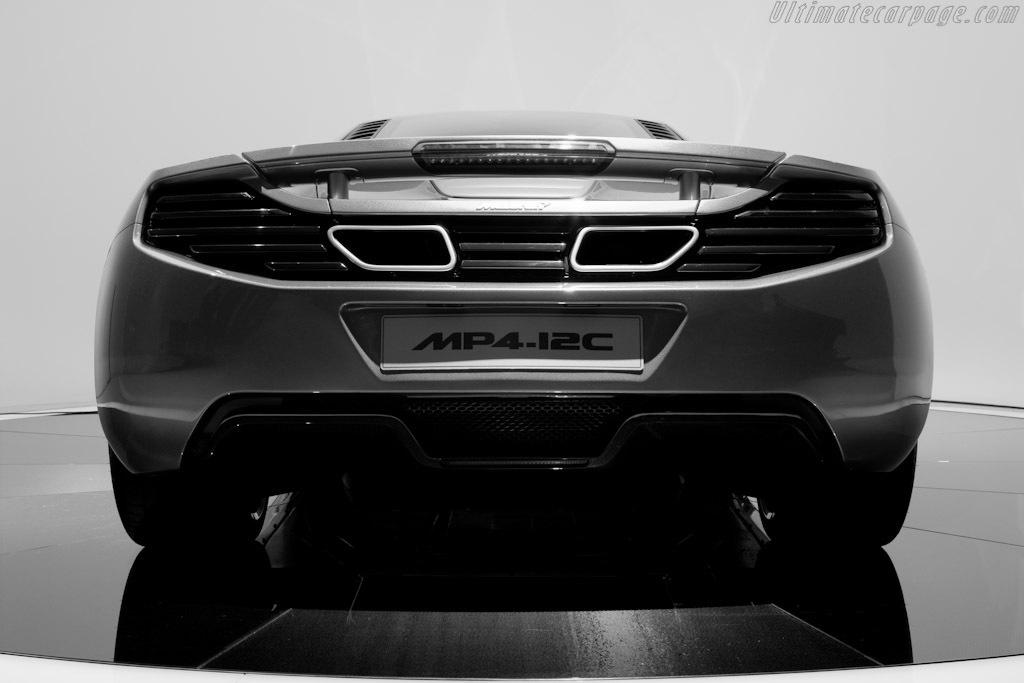car: (91, 107, 937, 561)
